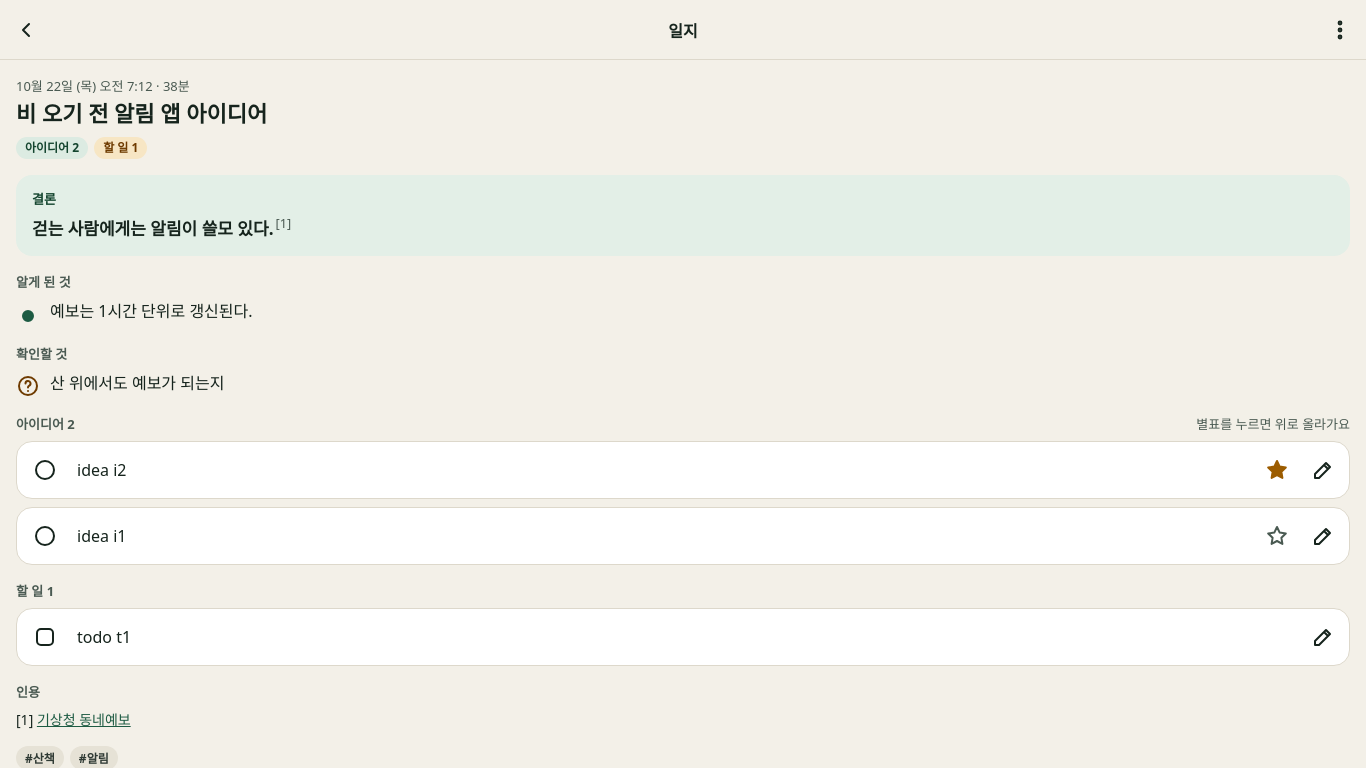
JournalDetailScreen 노트·제목·삭제 › 할 일을 완료로 표시한다
Click the button named "완료로 표시" next to "todo t1": [45, 638] box [23,616,67,660]
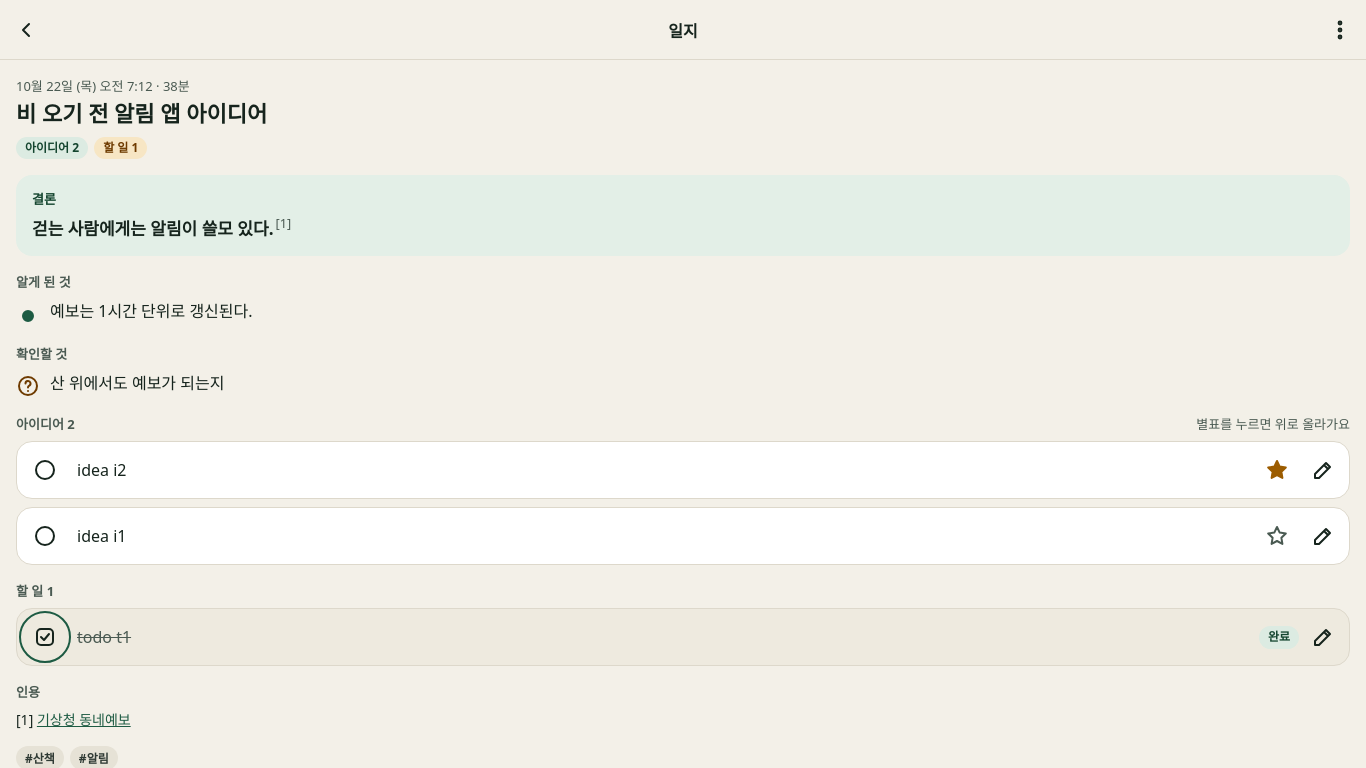
expect the button named "완료 취소" is shown: met, box [23,616,67,660]
expect the text "완료" is shown: met, box [1259,626,1299,649]
